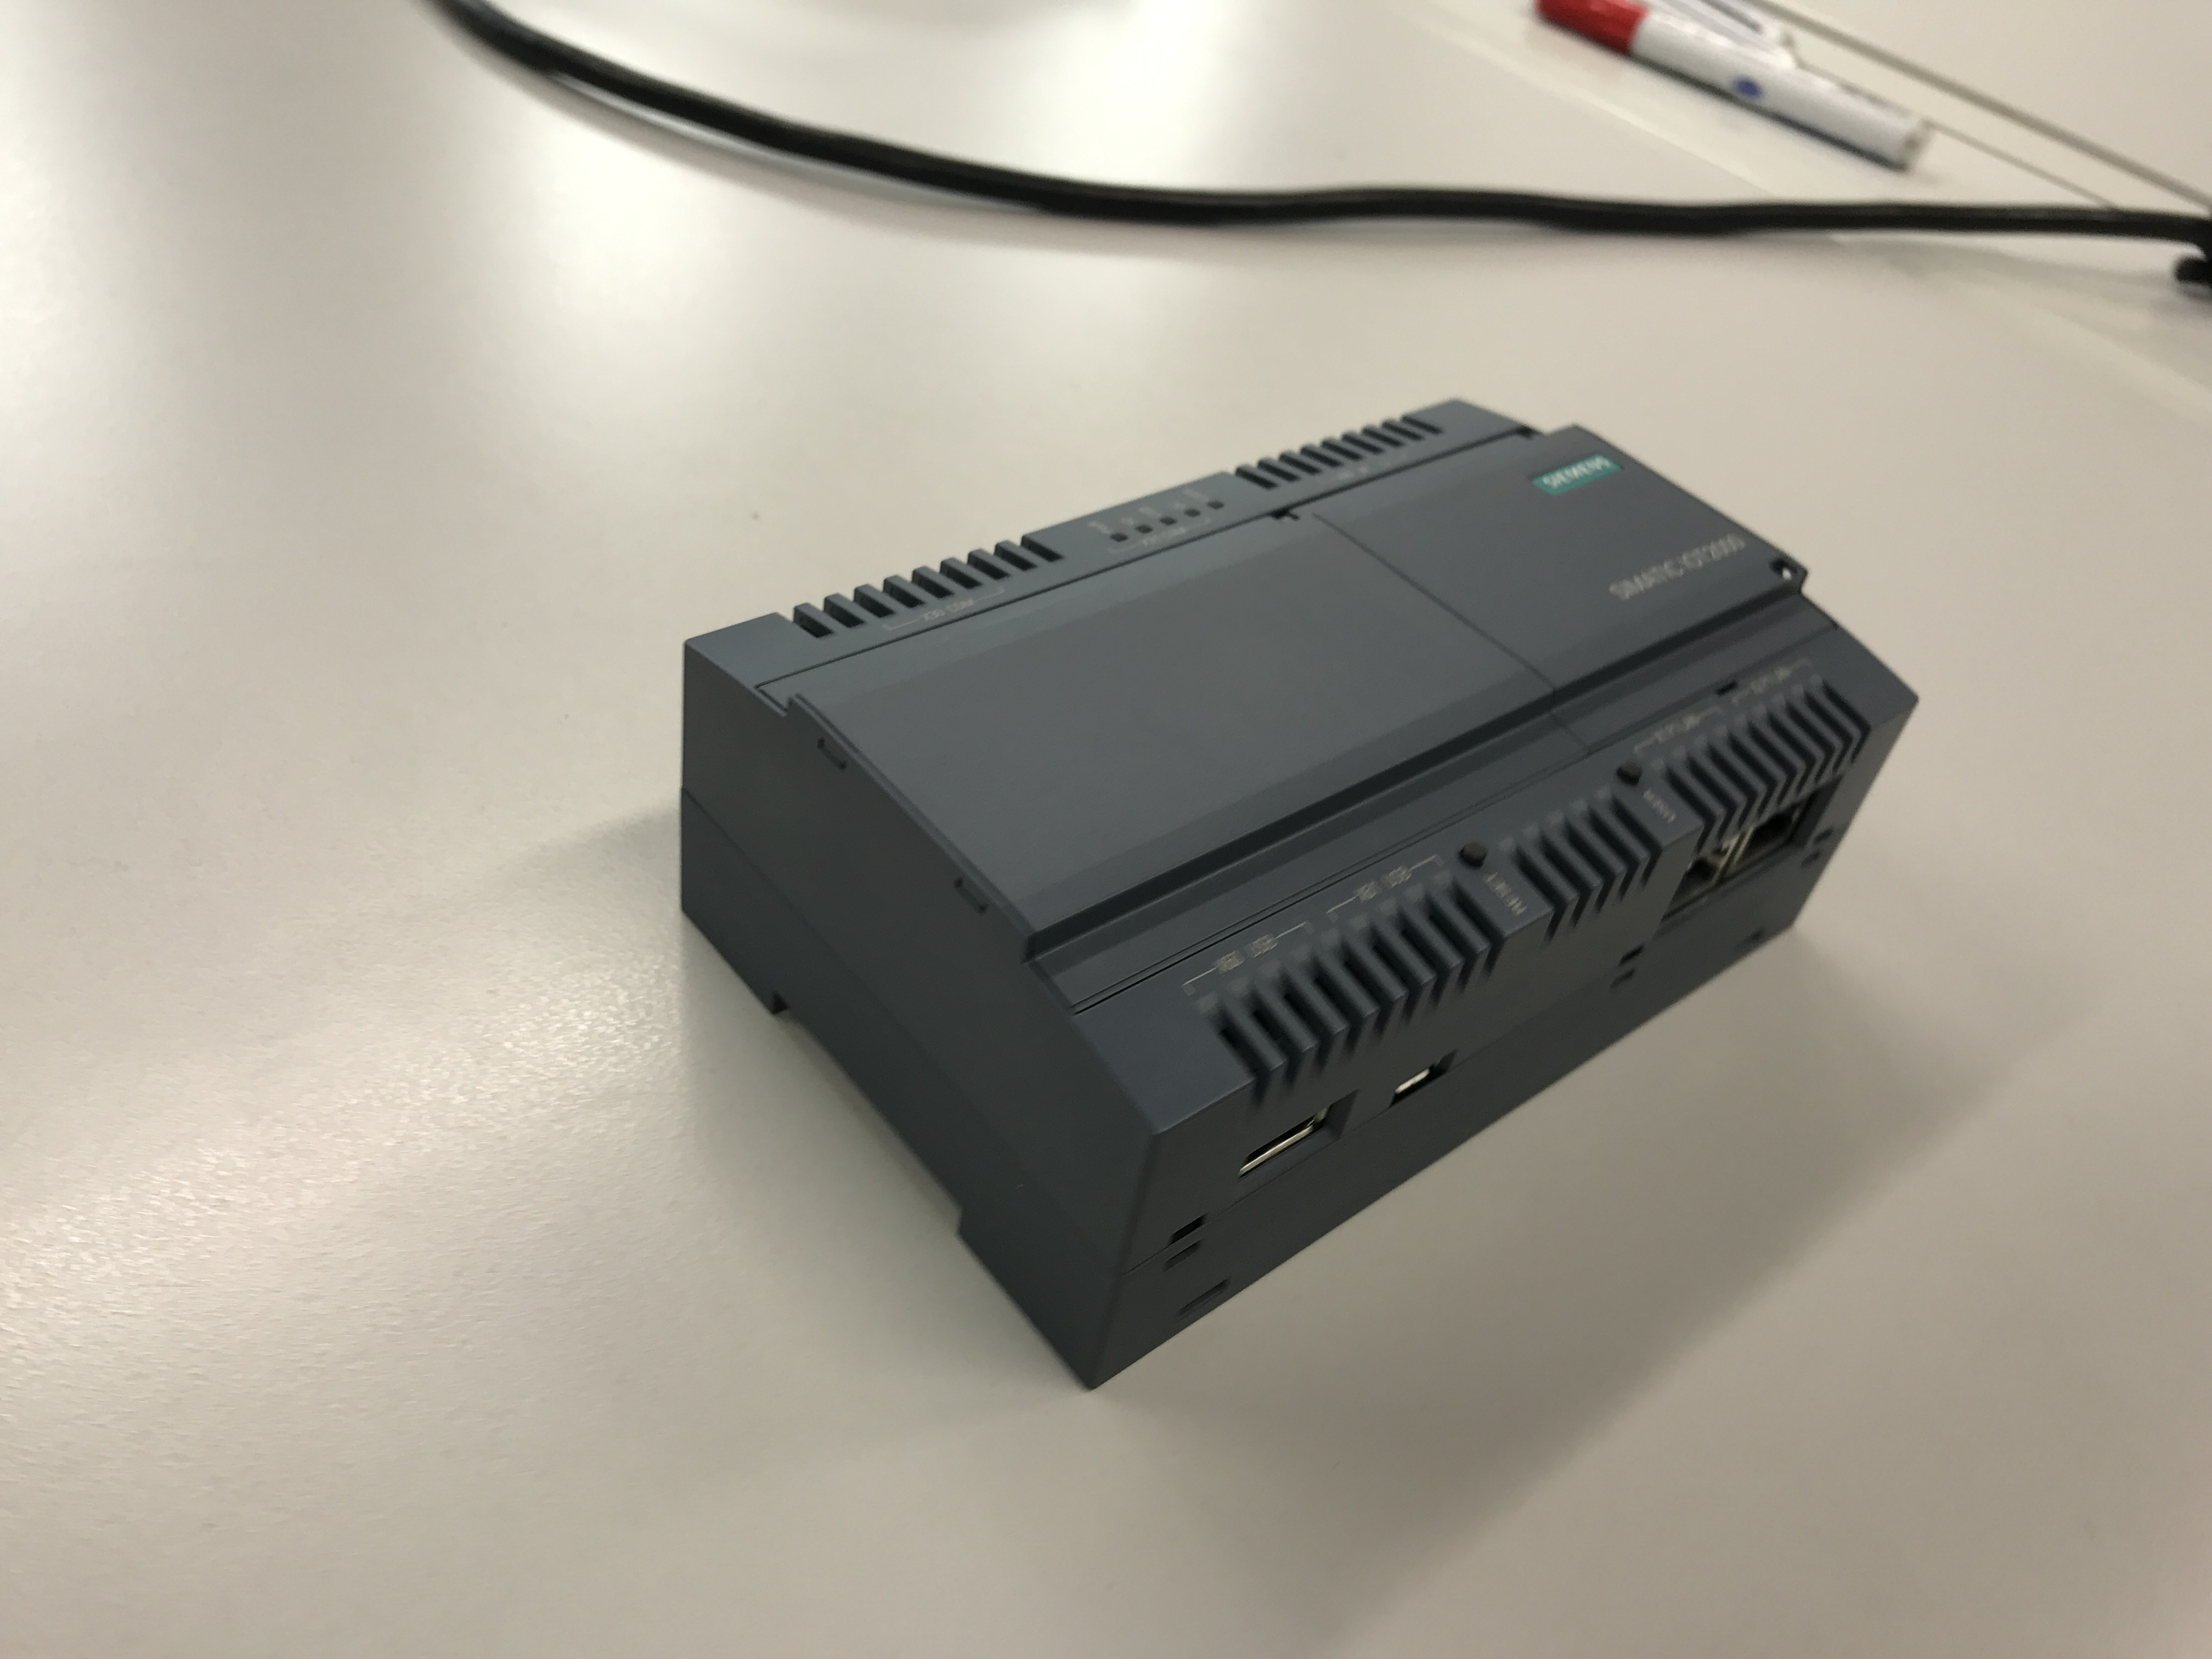device: (678, 397, 1921, 1392)
